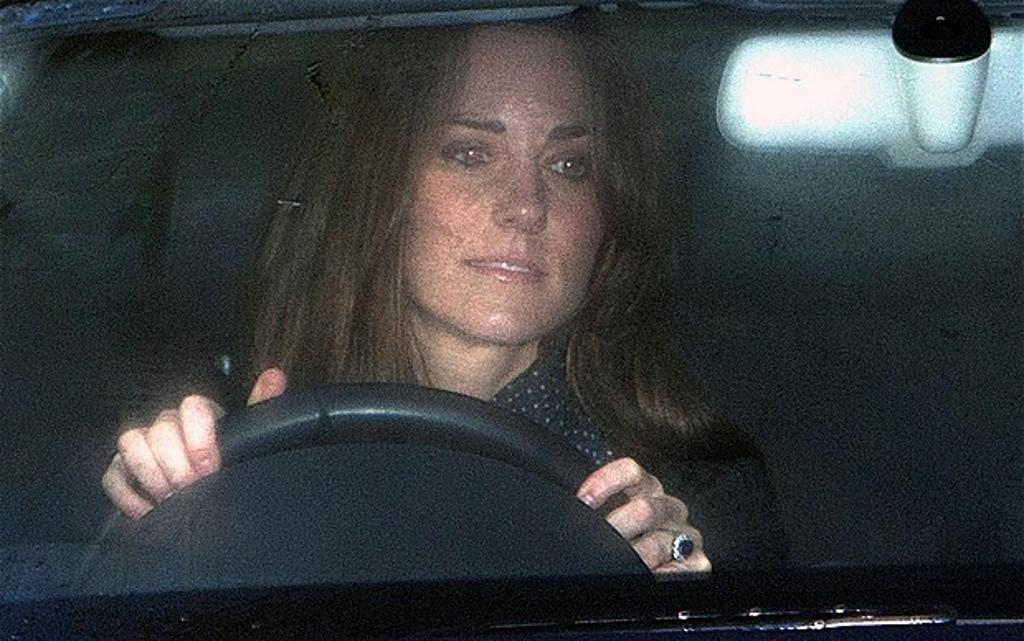face: (409, 35, 621, 341)
